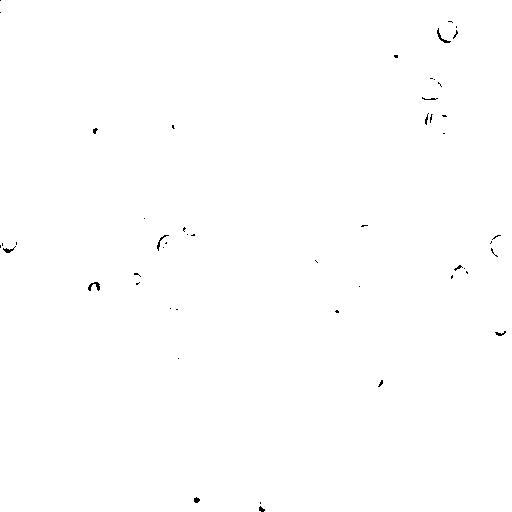micro-algae: (185, 86, 301, 199), (196, 53, 263, 115), (205, 116, 260, 173), (87, 128, 137, 182), (87, 263, 130, 305), (383, 281, 422, 320), (423, 105, 456, 136), (96, 327, 128, 357), (179, 485, 212, 512), (326, 289, 354, 319), (155, 233, 183, 260), (85, 121, 112, 148), (416, 75, 444, 101), (447, 263, 472, 292), (147, 251, 175, 276), (22, 463, 50, 487), (146, 433, 173, 454), (490, 232, 511, 259), (306, 495, 341, 511), (344, 274, 369, 296), (437, 21, 460, 43), (386, 44, 409, 65), (340, 333, 361, 355), (321, 3, 344, 23), (167, 346, 188, 367), (171, 113, 191, 133), (387, 442, 405, 464), (180, 221, 201, 239), (1, 233, 18, 254), (357, 223, 376, 241), (141, 209, 158, 229), (492, 319, 509, 336), (312, 231, 331, 246), (164, 304, 183, 319), (232, 0, 257, 11), (369, 370, 385, 387), (127, 270, 143, 287), (254, 497, 271, 512), (314, 249, 329, 263), (22, 1, 44, 10), (1, 1, 15, 15), (89, 281, 101, 294)
